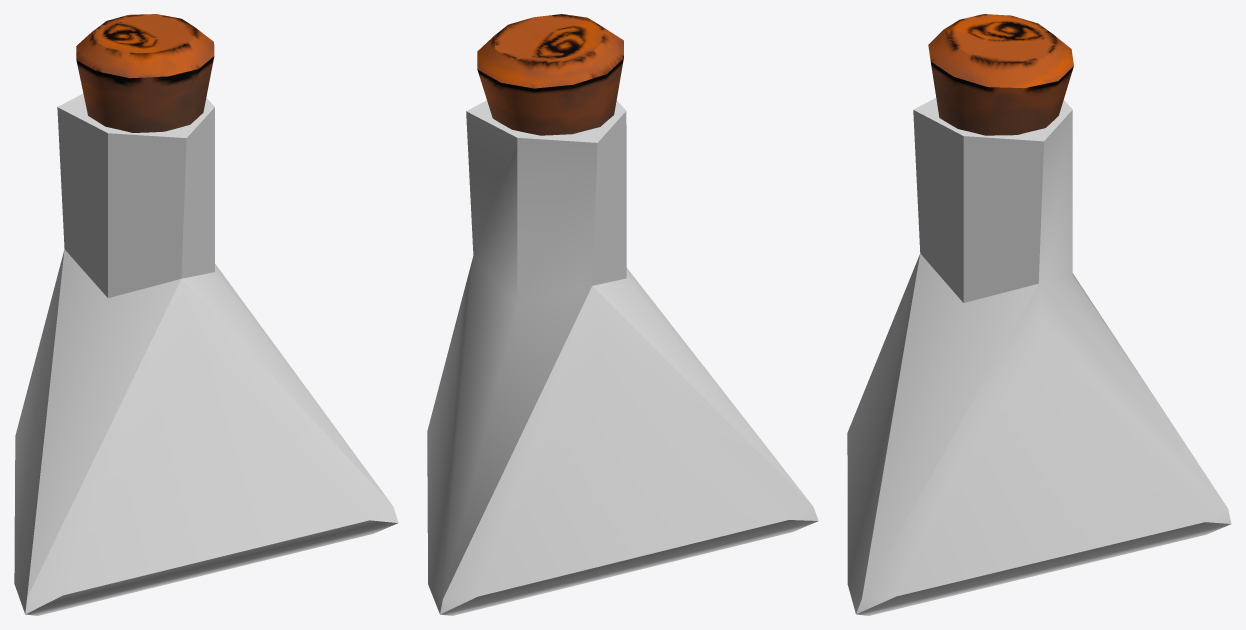
File: Potion_Pyramid.fbx
3 renders of one model, left to right at view 1: azimuth 30°, elevation 25°; view 2: azimuth 150°, elevation 25°; view 3: azimuth 270°, elevation 25°, orthographic.
Parts seen in each view (by area): view 1: Triangle_Potion, cork.001; view 2: Triangle_Potion, cork.001; view 3: Triangle_Potion, cork.001.
Boxes of the visible parts, bbox=[...] form: Triangle_Potion: bbox=[14, 93, 398, 615]; cork.001: bbox=[76, 14, 214, 132]; Triangle_Potion: bbox=[427, 100, 818, 615]; cork.001: bbox=[477, 14, 623, 135]; Triangle_Potion: bbox=[847, 98, 1231, 615]; cork.001: bbox=[928, 14, 1073, 135].
Size of the model in its own units: 84.1 by 74.01 by 108.
Materials: 3 (1 with a texture image).
